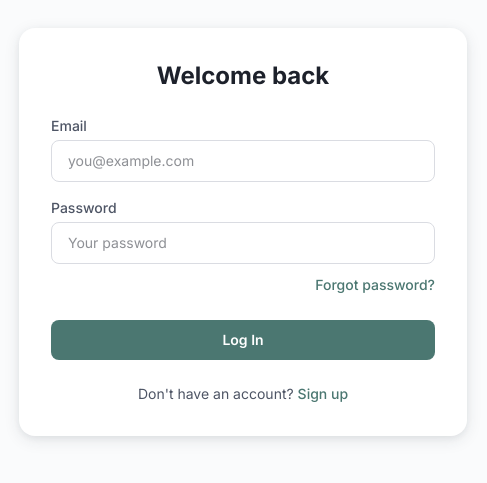
Test case: LoginPage › shows client-side errors for empty fields
The width and height of the screenshot is (487, 483).
Click the button "Log In" at coordinates (243, 340), box [51,320,435,360]
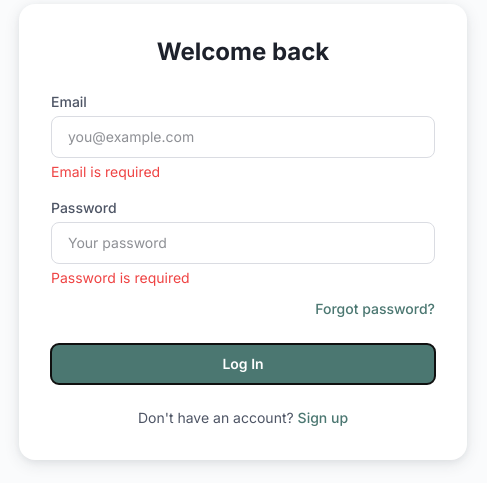
Now the text "Email is required" is shown, box [51,163,160,180]
Now the text "Password is required" is shown, box [51,269,190,286]
